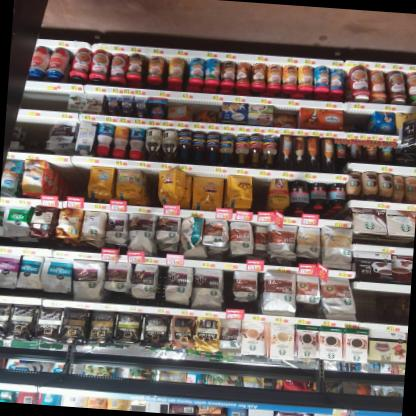empty_space: (53, 161, 86, 203), (23, 90, 68, 110), (356, 289, 382, 323), (251, 172, 271, 213), (25, 122, 44, 153), (344, 113, 368, 132)
